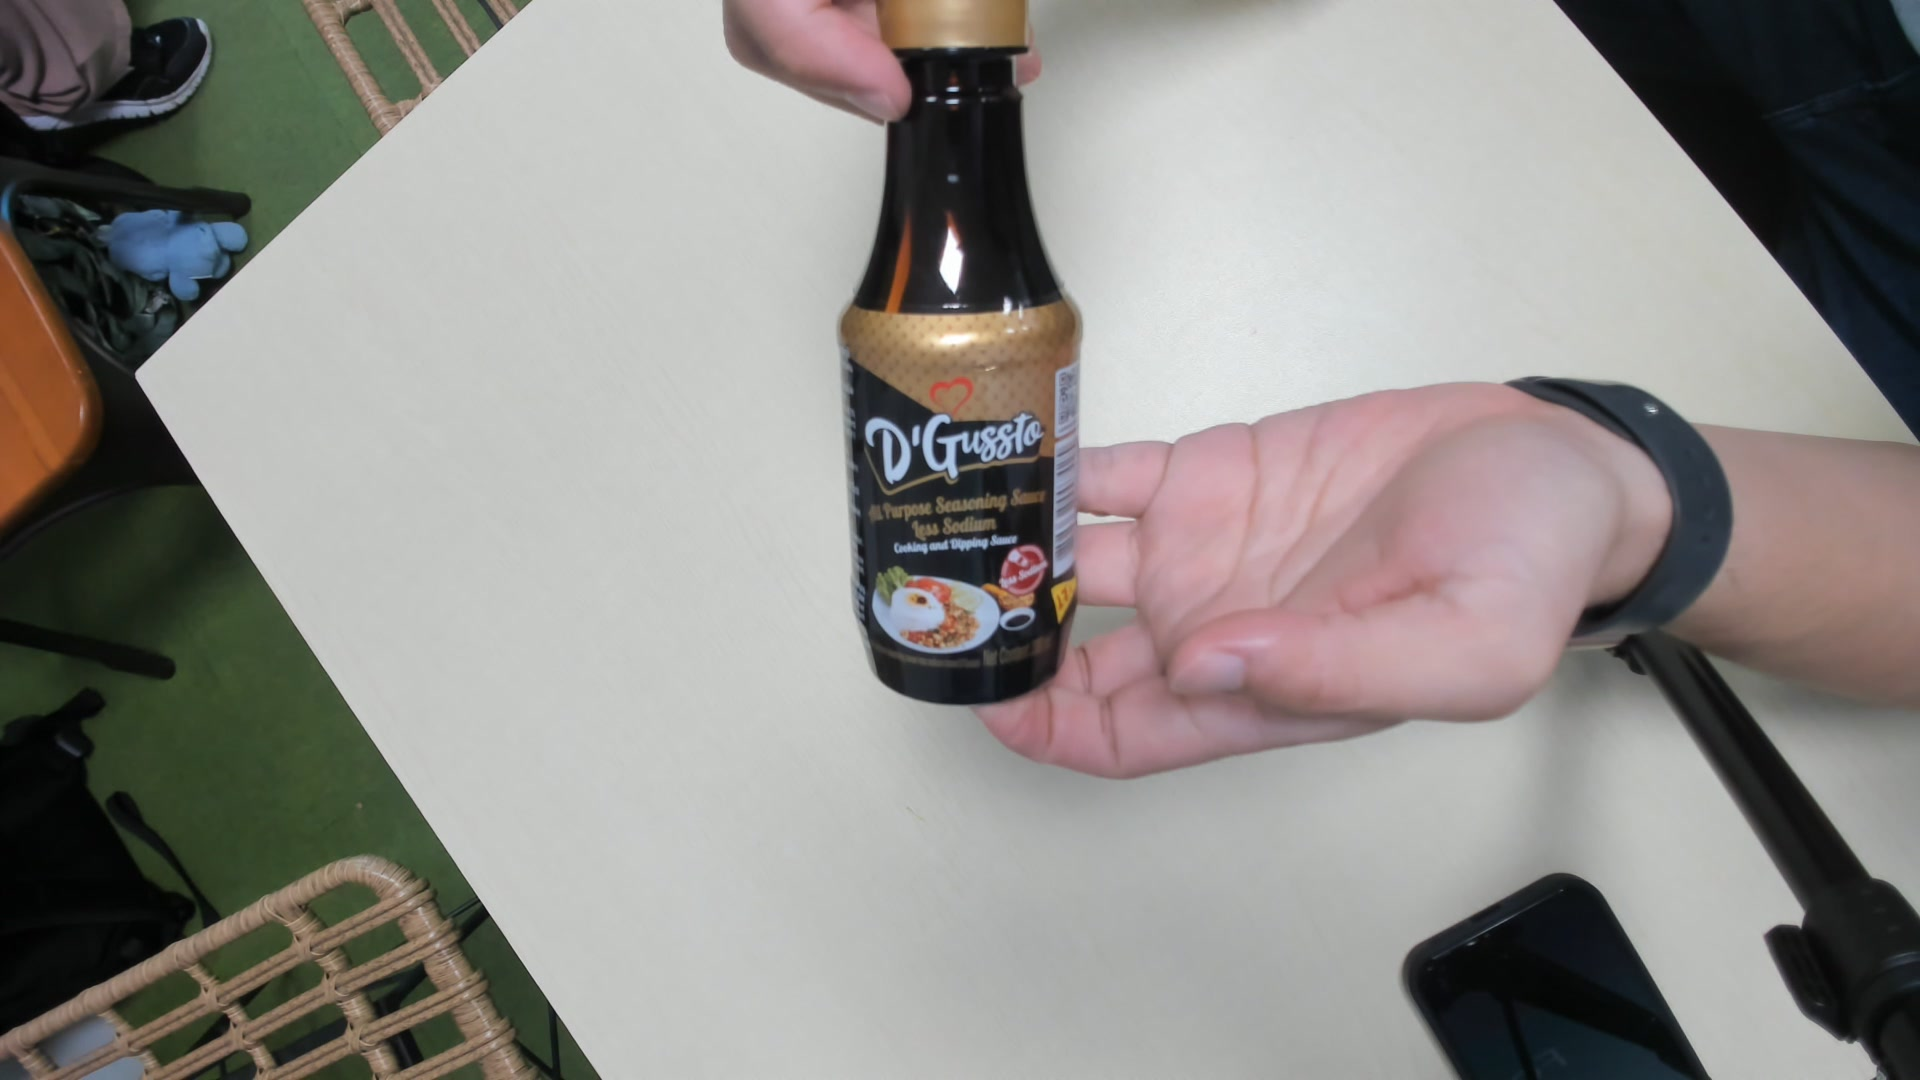OtherSauceDressing_200-299g_NonHalal_NonHealthy: (837, 3, 1083, 705)
